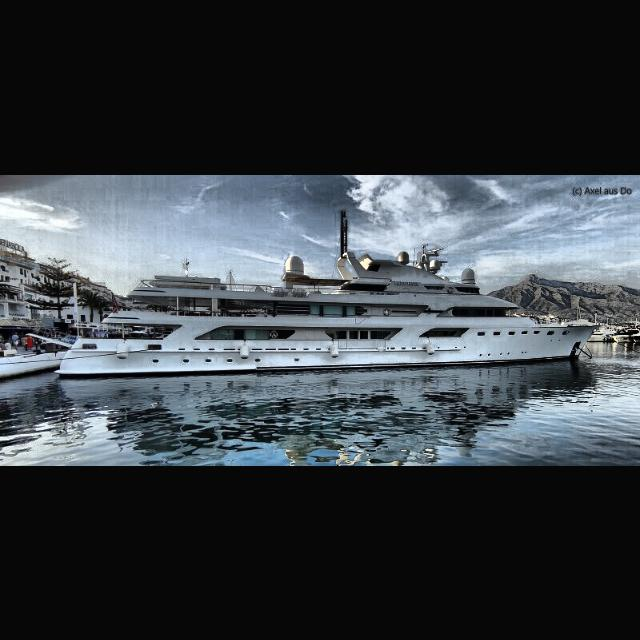yacht: (53, 242, 603, 381)
